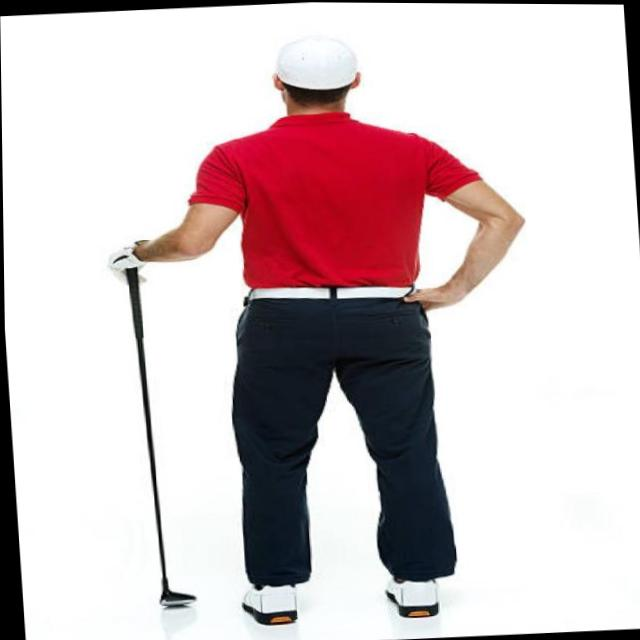no helmet: (255, 21, 376, 111)
